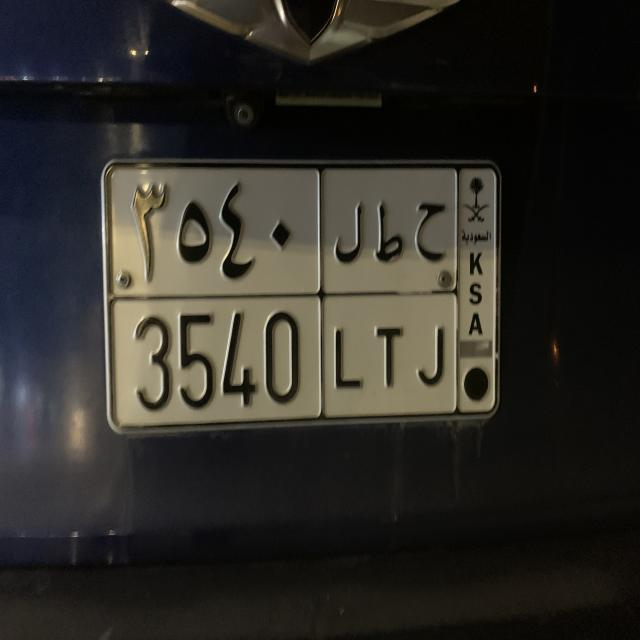license_plate: (97, 152, 507, 438)
